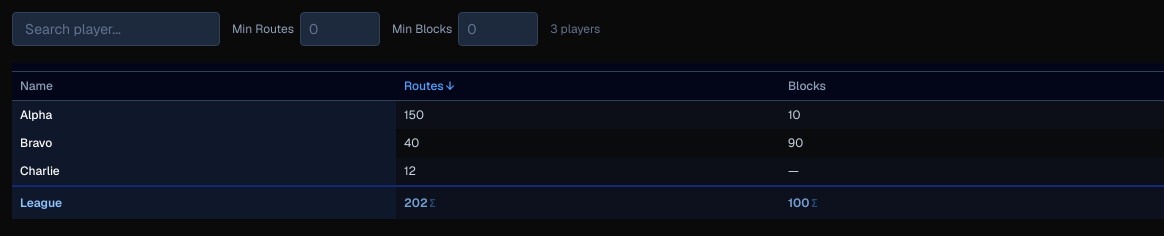
StatsTableShell min filters › clearing the box brings the rows back
This screenshot has width=1164, height=236.
Step 1. Type "100" into the number field labelled "Min Routes" → coordinates (340, 29), box [300,12,380,46]
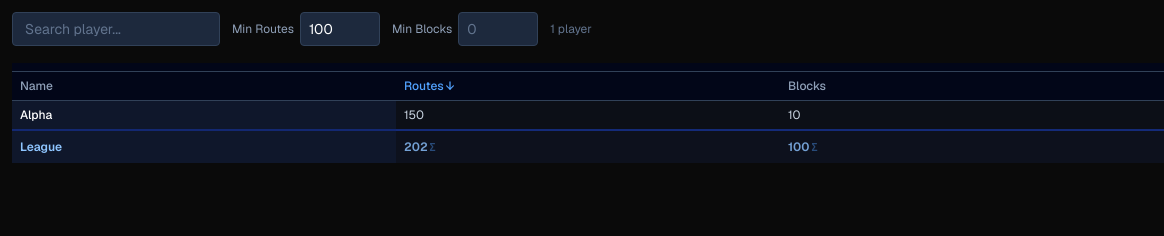
Step 2. Clear the number field labelled "Min Routes" → coordinates (340, 29), box [300,12,380,46]
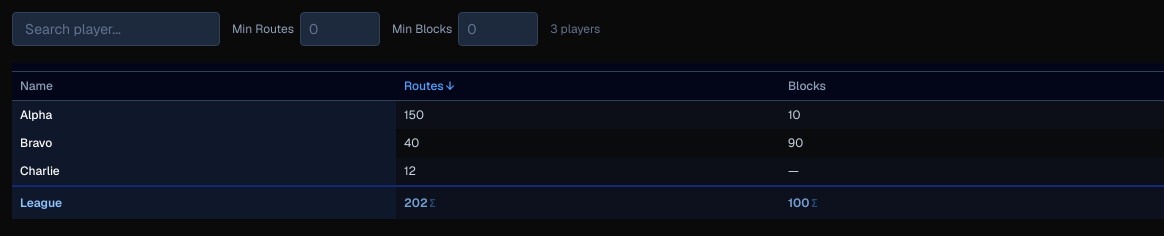
Expected: the text "3 players" is shown, [550,21,600,37]
